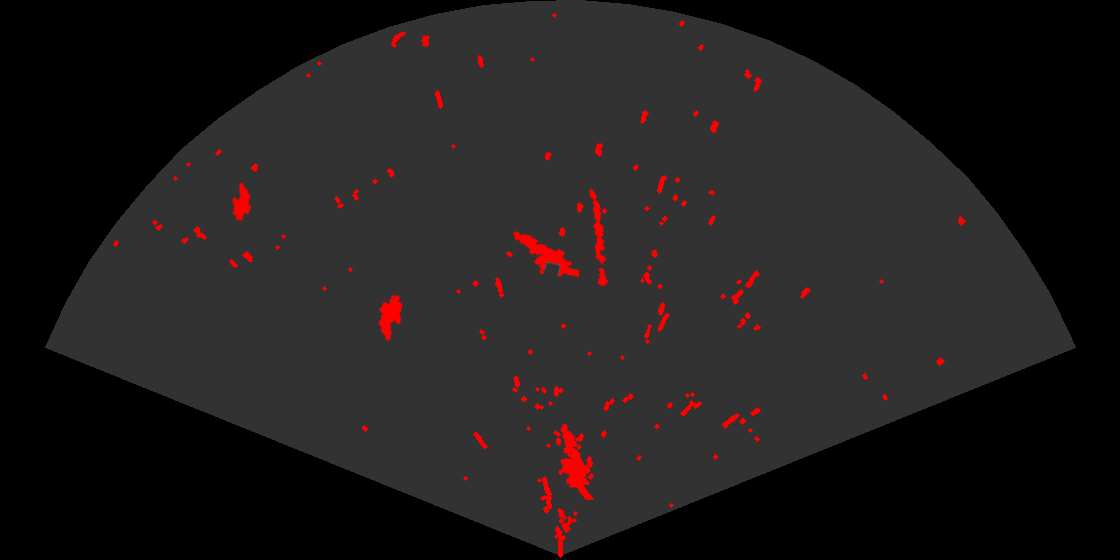AUV: (377, 293, 404, 343), (231, 180, 253, 223)
chain: (588, 187, 610, 288)
frogman: (511, 230, 579, 279), (557, 422, 596, 500)
